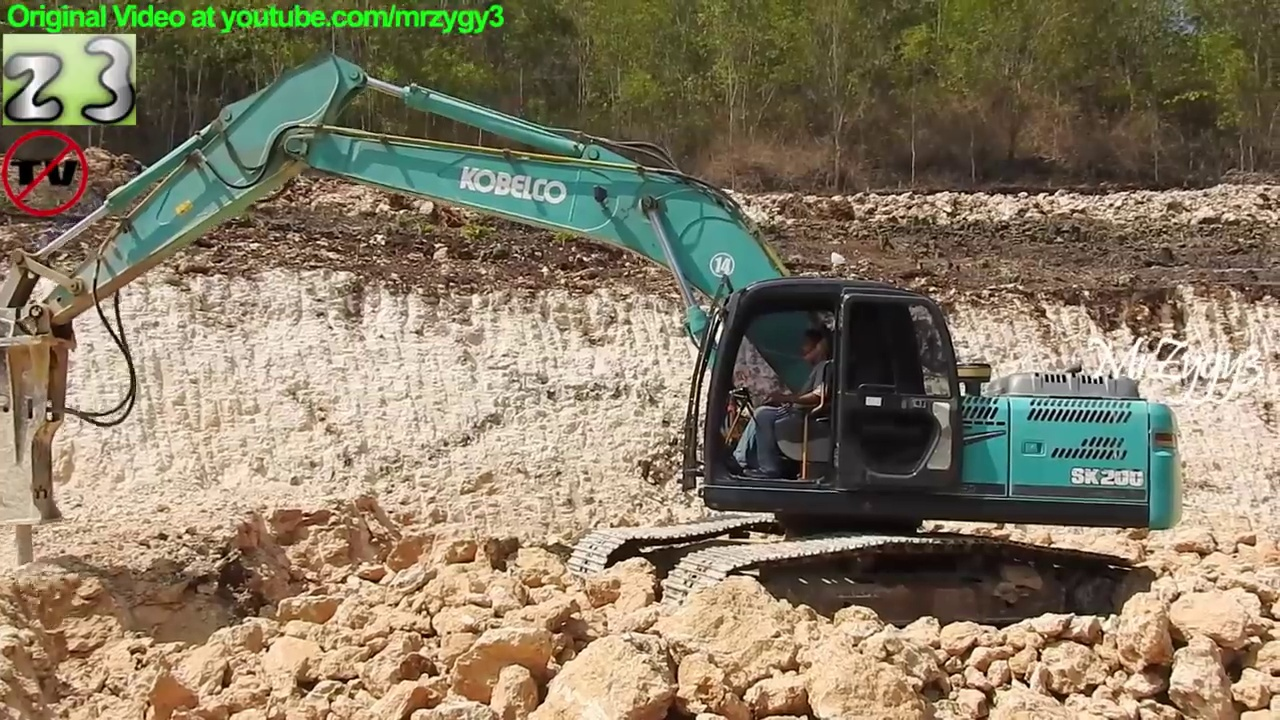excavator breaker: (1, 46, 1186, 638)
